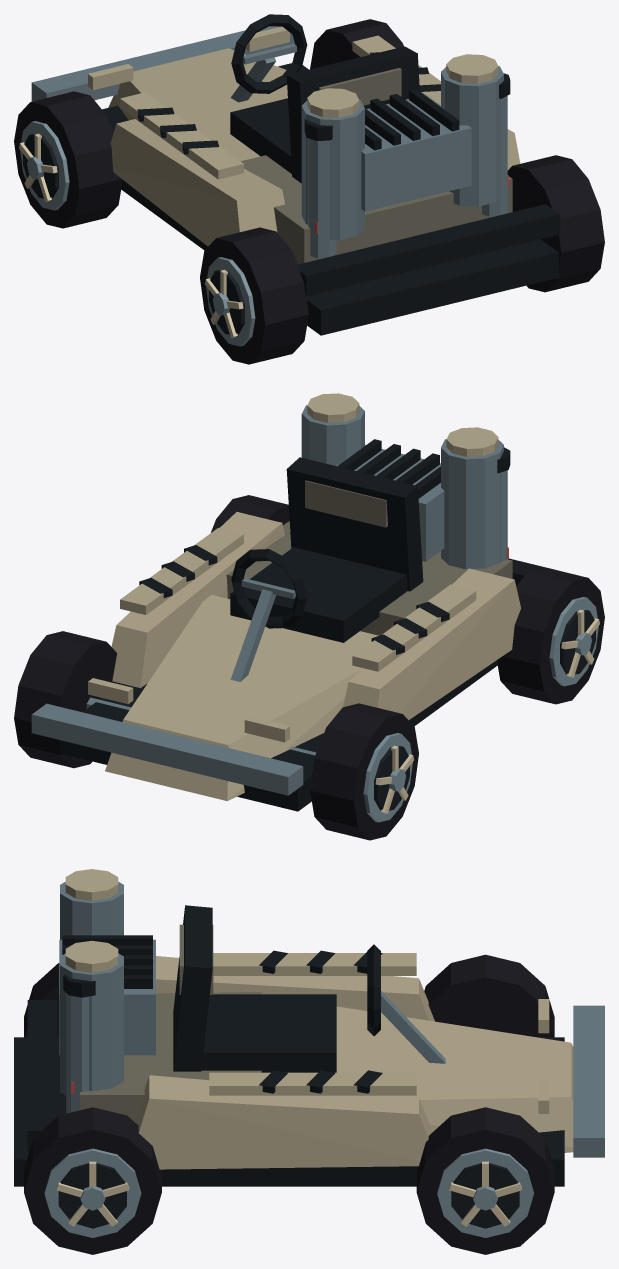
File: kart.glb
3 views of the same model, one above another, from view 1: azimuth 30°, elevation 25°; view 2: azimuth 150°, elevation 25°; view 3: azimuth 270°, elevation 25° (orthographic). The views are drawn at different scales.
Parts seen in each view (by area): view 1: chassis, wheel-rear-left, wheel-front-left, wheel-rear-right, wheel-front-right; view 2: chassis, wheel-front-left, wheel-rear-left, wheel-front-right, wheel-rear-right; view 3: chassis, wheel-front-right, wheel-rear-right, wheel-front-left, wheel-rear-left.
Part boxes in pixels (left/top/right/bottom): chassis: left=31, top=14, right=560, bottom=335; wheel-rear-left: left=200, top=227, right=308, bottom=364; wheel-front-left: left=14, top=91, right=122, bottom=228; wheel-rear-right: left=507, top=155, right=604, bottom=292; wheel-front-right: left=310, top=19, right=403, bottom=69; chassis: left=31, top=393, right=544, bottom=811; wheel-front-left: left=310, top=703, right=418, bottom=840; wheel-rear-left: left=497, top=567, right=604, bottom=704; wheel-front-right: left=14, top=631, right=120, bottom=768; wheel-rear-right: left=211, top=495, right=289, bottom=532; chassis: left=14, top=869, right=604, bottom=1186; wheel-front-right: left=416, top=1107, right=554, bottom=1254; wheel-rear-right: left=24, top=1107, right=161, bottom=1254; wheel-front-left: left=424, top=954, right=554, bottom=1037; wheel-rear-left: left=24, top=963, right=59, bottom=1037.
Size of the model in its own units: 2.27 by 1.4 by 3.
